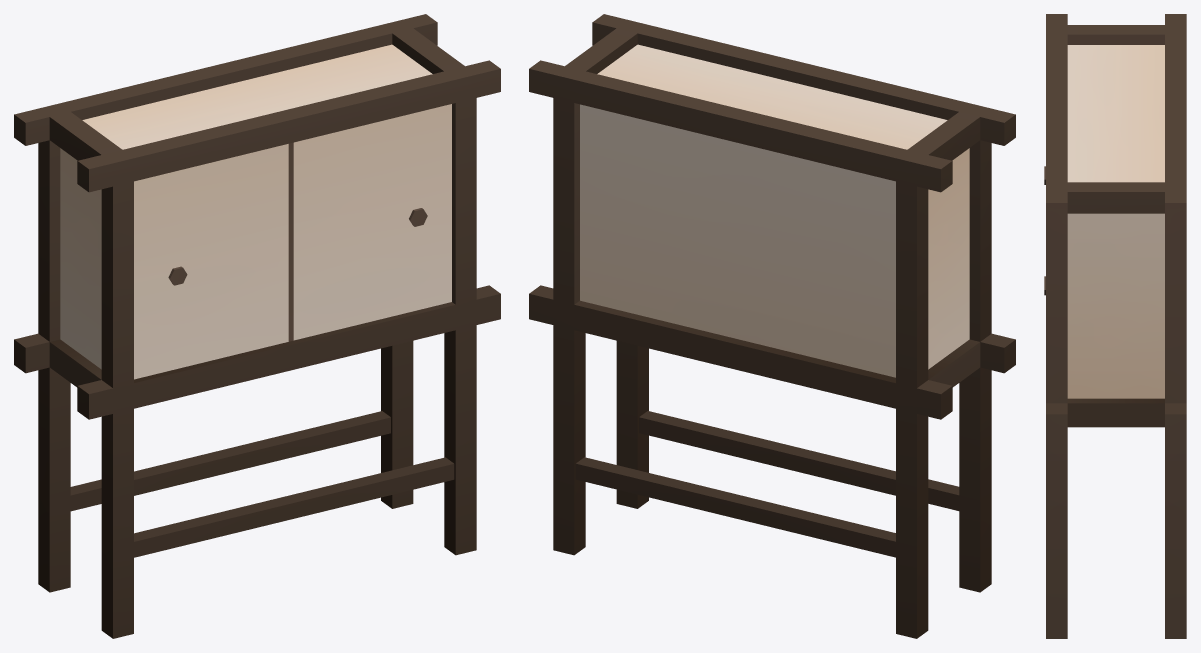
File: SK_Furniture_001.FBX
3 views of the same model, side by side, from view 1: azimuth 30°, elevation 25°; view 2: azimuth 150°, elevation 25°; view 3: azimuth 270°, elevation 25° (orthographic). The views are drawn at different scales.
Parts seen in each view (by area): view 1: SK_Furniture_001; view 2: SK_Furniture_001; view 3: SK_Furniture_001.
Part boxes in pixels (x1,y1,x2,y2): SK_Furniture_001: (14,14,500,638); SK_Furniture_001: (529,14,1015,638); SK_Furniture_001: (1044,14,1186,638).
Size of the model in its own units: 113 by 125 by 36.06.
1 material, 1 textured.
